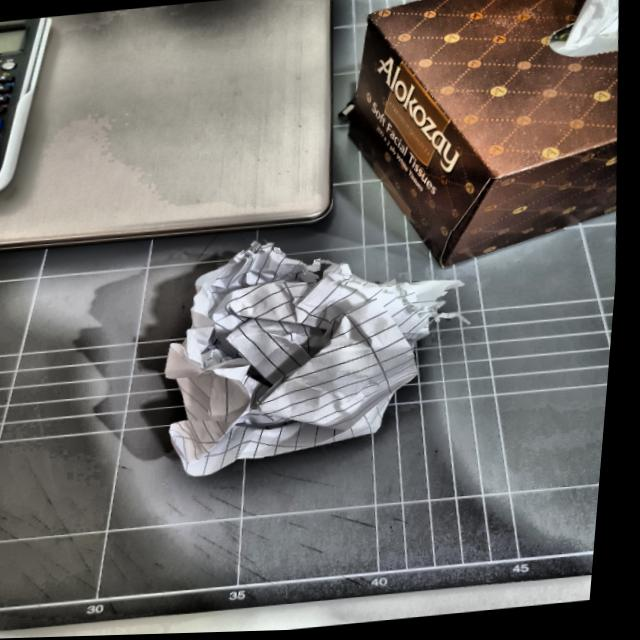Paper: (157, 225, 512, 481)
